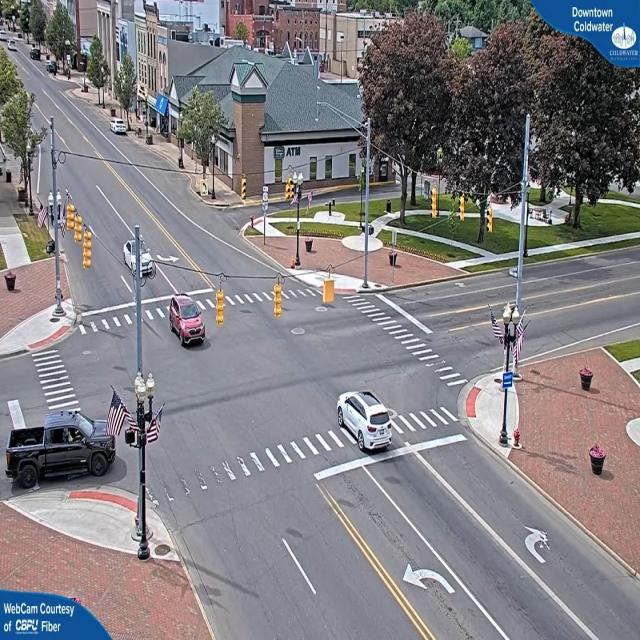car: (7, 406, 114, 487), (339, 391, 395, 454), (170, 297, 208, 345), (122, 236, 154, 278), (111, 120, 129, 136)
